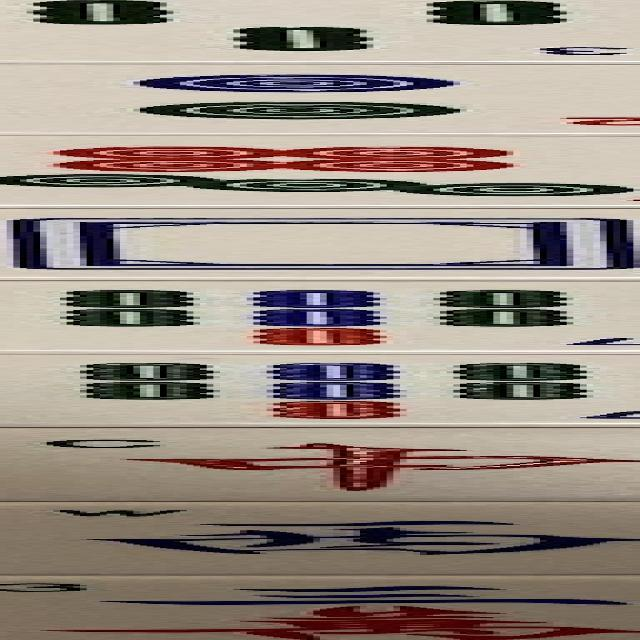hdr: (0, 428, 640, 499)
hdw: (0, 208, 640, 280)
hww: (0, 502, 640, 576)
sb3: (0, 0, 640, 63)
sb7: (0, 354, 640, 426), (0, 281, 640, 352)
sc3: (0, 577, 640, 640)
sd2: (0, 62, 640, 134)
sd7: (0, 136, 640, 208)
